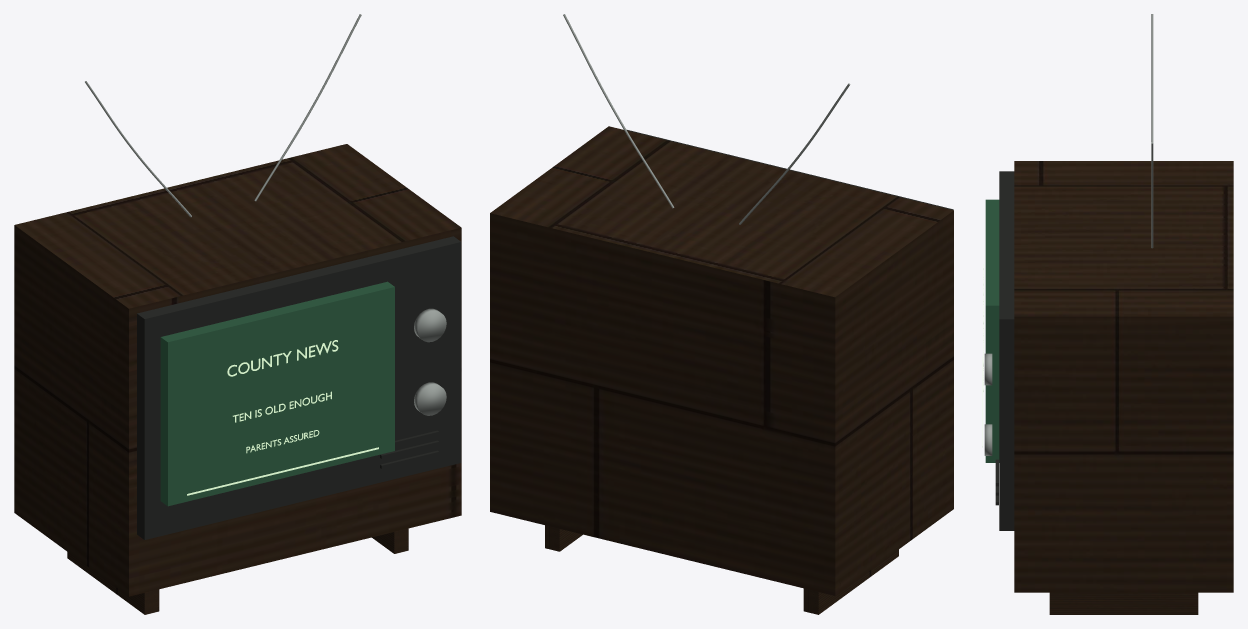
Rendered from home-crt-tv.glb.
The picture shows the model from 3 angles, left to right: view 1: azimuth 30°, elevation 25°; view 2: azimuth 150°, elevation 25°; view 3: azimuth 270°, elevation 25°; orthographic projection. The views are drawn at different scales.
Visible parts, largest first — view 1: Television cabinet, Rounded CRT glass, Dark TV fascia, TV cabinet foot, TV rotary tuner.001, TV rotary tuner, Rabbit ear antenna.001; view 2: Television cabinet, TV cabinet foot, TV cabinet foot.001, Rabbit ear antenna.001; view 3: Television cabinet, Dark TV fascia, Rounded CRT glass, TV cabinet foot.001, Rabbit ear antenna.
Boxes of the visible parts, box(x1,y1,x2,y2) form: Television cabinet: box(14, 144, 461, 596); Rounded CRT glass: box(160, 281, 394, 506); Dark TV fascia: box(137, 236, 461, 539); TV cabinet foot: box(67, 552, 159, 614); TV rotary tuner.001: box(414, 308, 446, 342); TV rotary tuner: box(414, 382, 446, 415); Rabbit ear antenna.001: box(254, 14, 361, 201); Television cabinet: box(490, 126, 953, 595); TV cabinet foot: box(803, 549, 898, 614); TV cabinet foot.001: box(545, 525, 582, 551); Rabbit ear antenna.001: box(563, 14, 674, 208); Television cabinet: box(1014, 161, 1233, 592); Dark TV fascia: box(999, 171, 1014, 530); Rounded CRT glass: box(985, 199, 999, 462); TV cabinet foot.001: box(1049, 592, 1198, 614); Rabbit ear antenna: box(1151, 14, 1153, 141).
Bounding box in the file's own units: 1.04 × 1.48 × 0.7105.
Materials: 5 (1 with a texture image).
